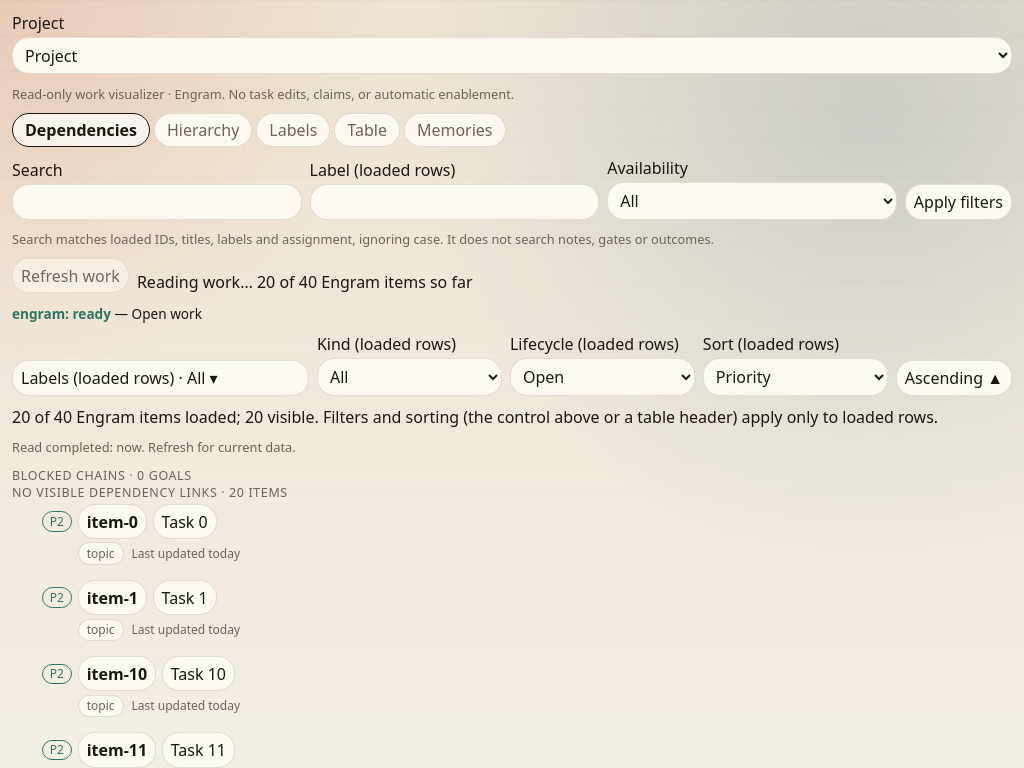
Test: Work serial paging › keeps the pending continuation across Label (loaded rows) changes
Type "topic" into the field labelled "Label (loaded rows)" at (454, 202), box [310,184,599,220]
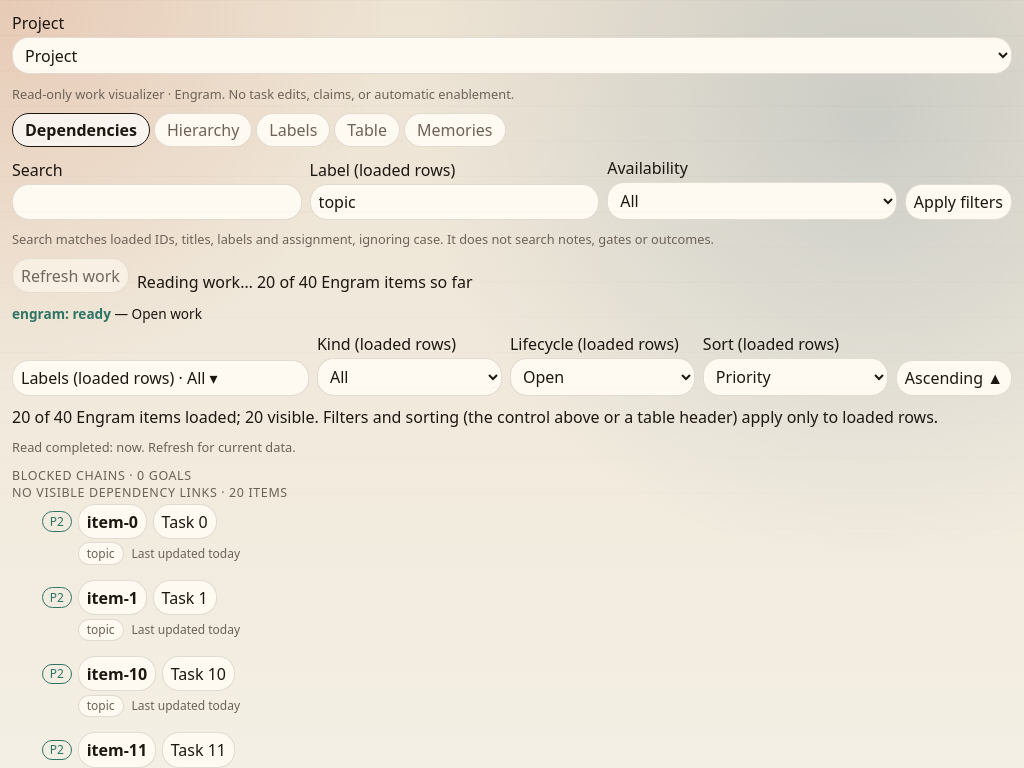
Click the button "Apply filters" at (958, 202), box [905,184,1012,220]
(page scrolled)
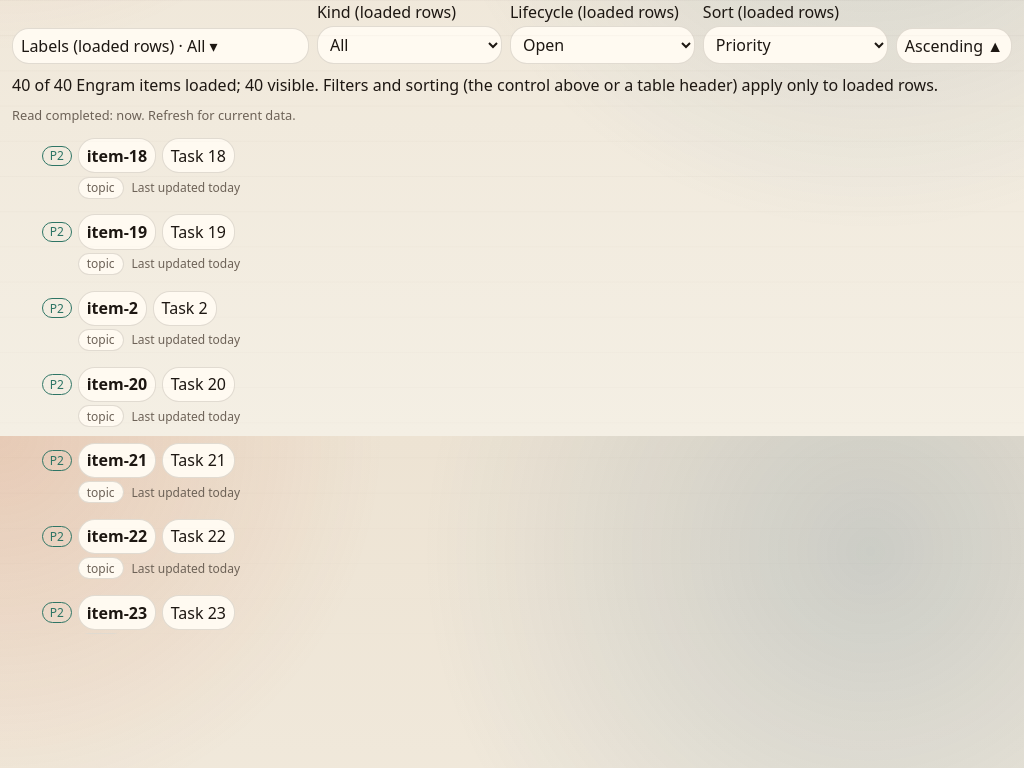
Expected: the button with aria-label "item-20 — Task 20" is shown, [162,367,235,402]
